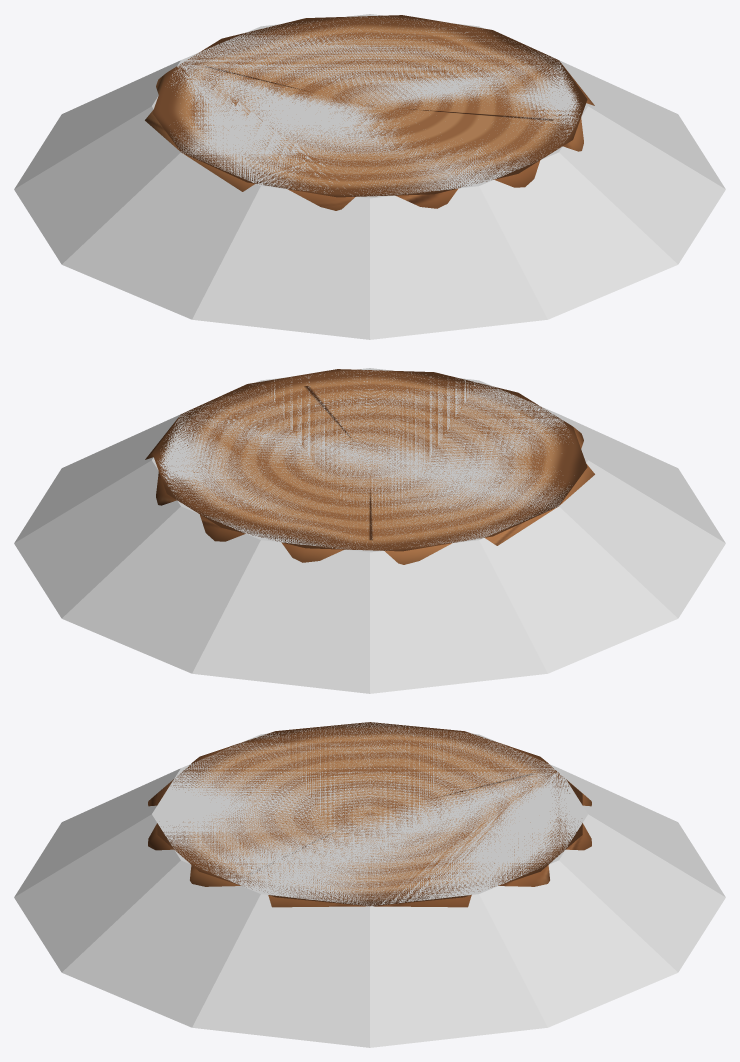
The model's file is SM_LogRound.fbx.
The picture shows the model from 3 angles, top to bottom: view 1: azimuth 30°, elevation 25°; view 2: azimuth 150°, elevation 25°; view 3: azimuth 270°, elevation 25°; orthographic projection.
Visible parts, largest first — view 1: LogRound_Col0, LogRound_Body; view 2: LogRound_Col0, LogRound_Body; view 3: LogRound_Col0, LogRound_Body.
Boxes of the visible parts, box(x1,y1,x2,y2) form: LogRound_Col0: box(14, 14, 725, 339); LogRound_Body: box(145, 15, 594, 210); LogRound_Col0: box(14, 368, 725, 693); LogRound_Body: box(145, 369, 594, 564); LogRound_Col0: box(14, 722, 725, 1047); LogRound_Body: box(148, 722, 591, 907).
Bounding box in the file's own units: 6.2 × 1 × 6.2.
